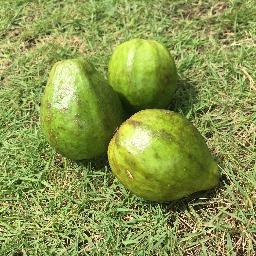Good_guava: (104, 101, 229, 203), (42, 55, 121, 172), (106, 37, 178, 111)
